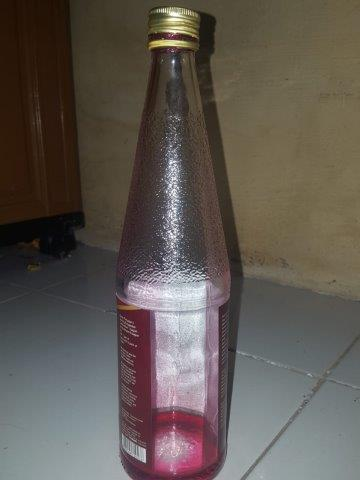botolkaca: (118, 6, 228, 479)
